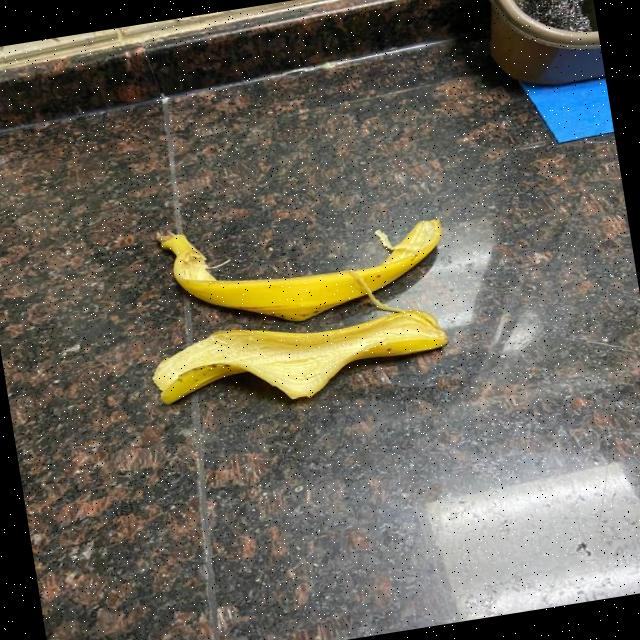banana-peel: (153, 185, 452, 342), (145, 294, 453, 422)
